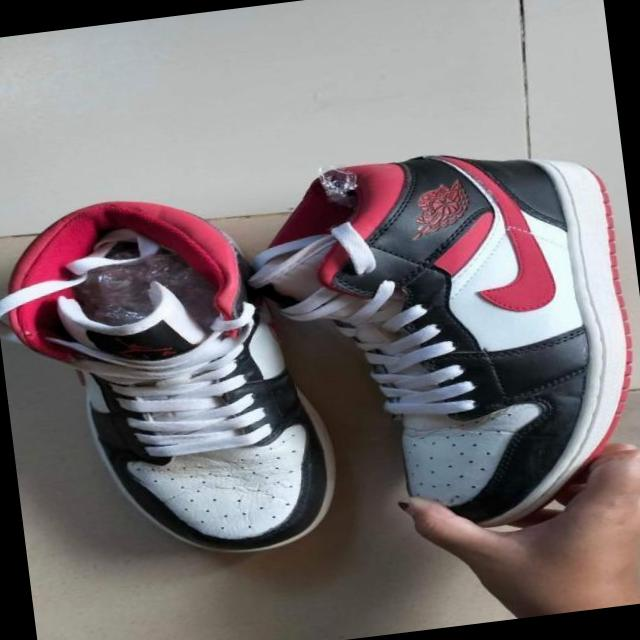nike_fake_jordan: (237, 134, 640, 561), (0, 179, 347, 582)
